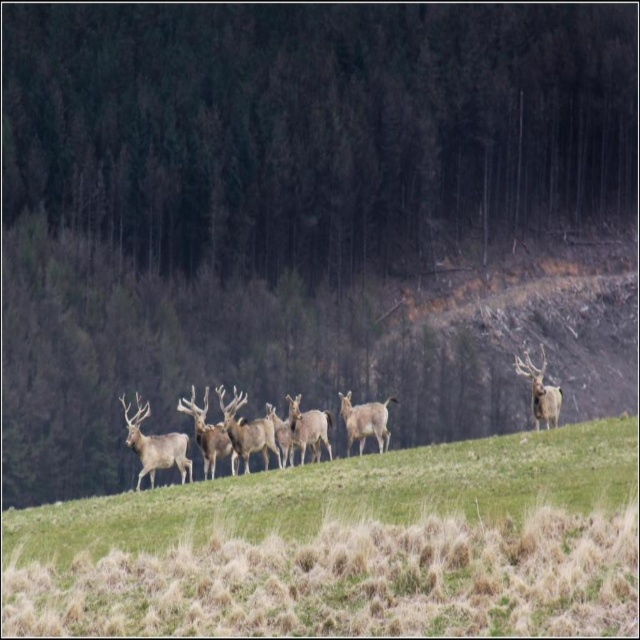Deer: (178, 382, 334, 485), (116, 388, 193, 494), (515, 340, 564, 434), (336, 384, 398, 456)
